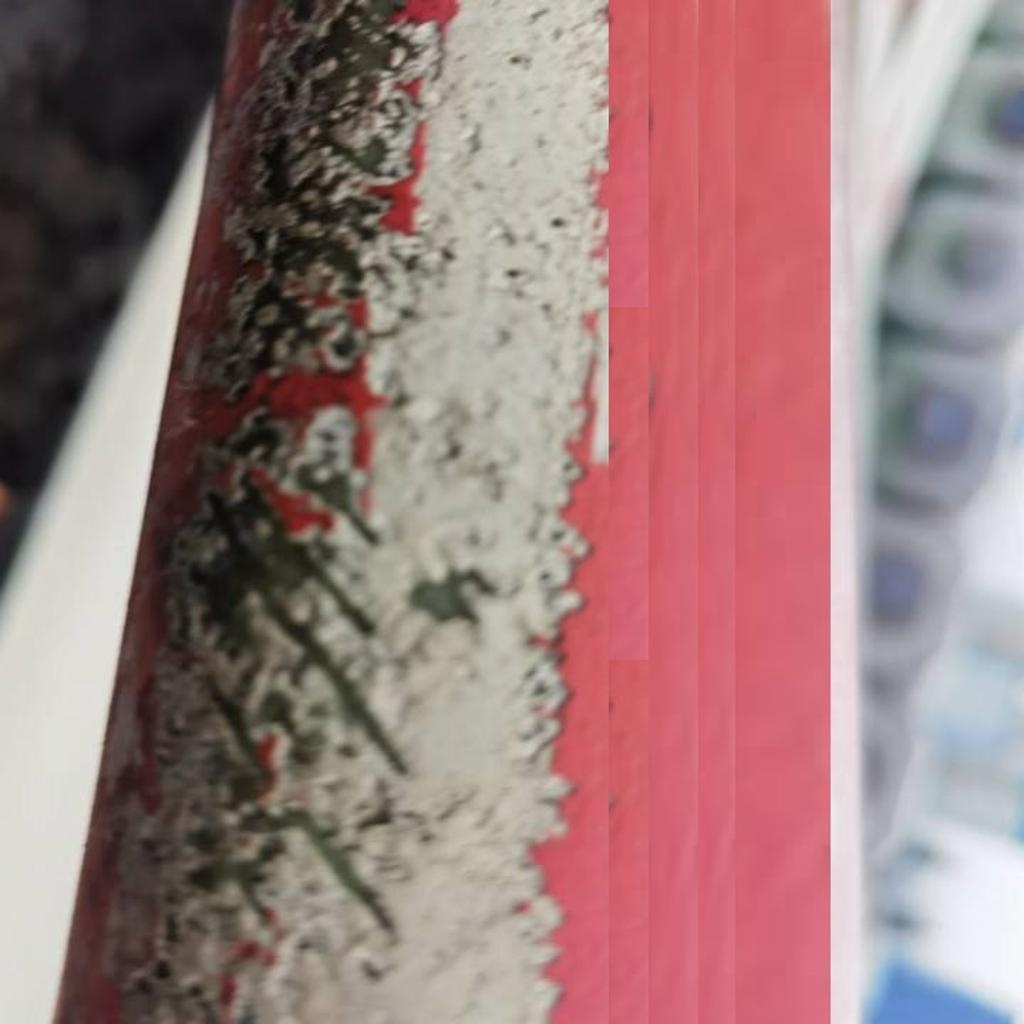corrosion: (116, 2, 600, 1024)
